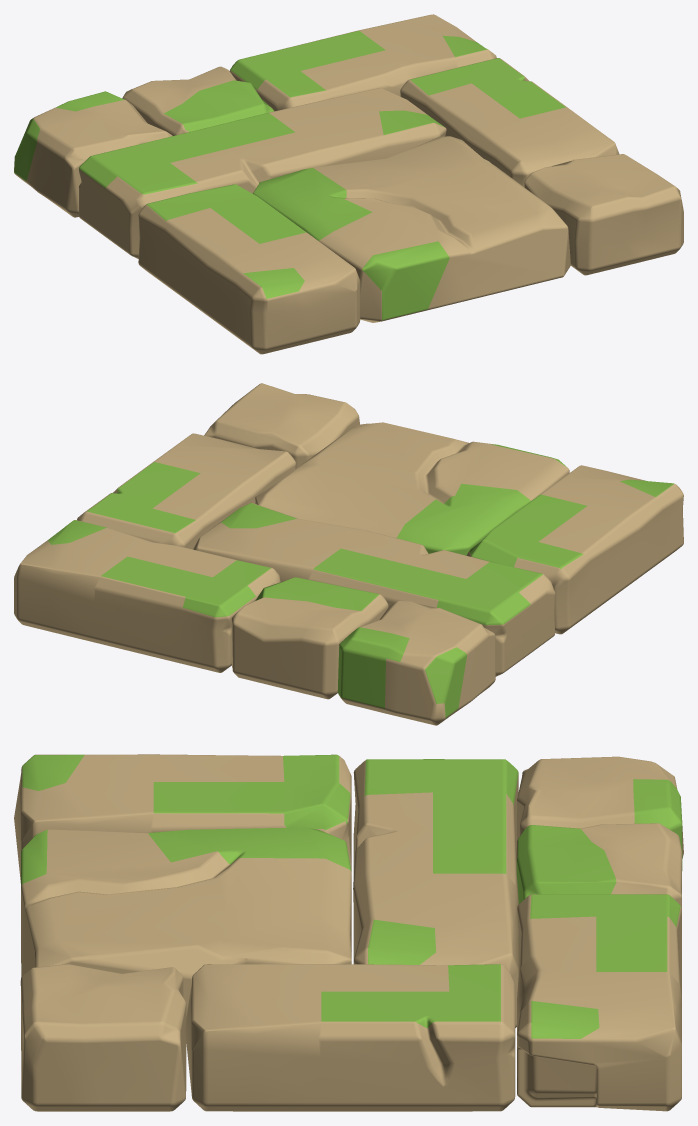
Rendered from Tile_Default_01.fbx.
The picture shows the model from 3 angles, top to bottom: view 1: azimuth 30°, elevation 25°; view 2: azimuth 150°, elevation 25°; view 3: azimuth 270°, elevation 25°; orthographic projection. The views are drawn at different scales.
Visible parts, largest first — view 1: Cube.041, Cube.039, Cube.040, Cube.046, Cube.045, Cube.044, Cube.042, Cube.043; view 2: Cube.045, Cube.041, Cube.040, Cube.039, Cube.042, Cube.046, Cube.043, Cube.044; view 3: Cube.046, Cube.041, Cube.045, Cube.040, Cube.039, Cube.044, Cube.043, Cube.042.
Boxes of the visible parts, x1,y1,x2,y2 form: Cube.041: (253, 136, 570, 322); Cube.039: (138, 184, 360, 354); Cube.040: (78, 88, 446, 258); Cube.046: (400, 58, 619, 186); Cube.045: (229, 14, 496, 110); Cube.044: (524, 154, 683, 275); Cube.042: (14, 91, 172, 217); Cube.043: (122, 66, 274, 135); Cube.045: (14, 520, 280, 672); Cube.041: (255, 422, 569, 555); Cube.040: (193, 503, 555, 676); Cube.039: (466, 465, 683, 634); Cube.042: (337, 601, 495, 725); Cube.046: (77, 433, 295, 549); Cube.043: (231, 577, 388, 699); Cube.044: (204, 383, 359, 468); Cube.046: (185, 964, 515, 1111); Cube.041: (21, 827, 351, 1016); Cube.045: (517, 894, 681, 1111); Cube.040: (353, 759, 518, 1027); Cube.039: (14, 754, 351, 882); Cube.044: (20, 964, 186, 1111); Cube.043: (516, 823, 681, 939); Cube.042: (517, 756, 683, 870).
Bounding box in the file's own units: 203 × 31.4 × 203.
